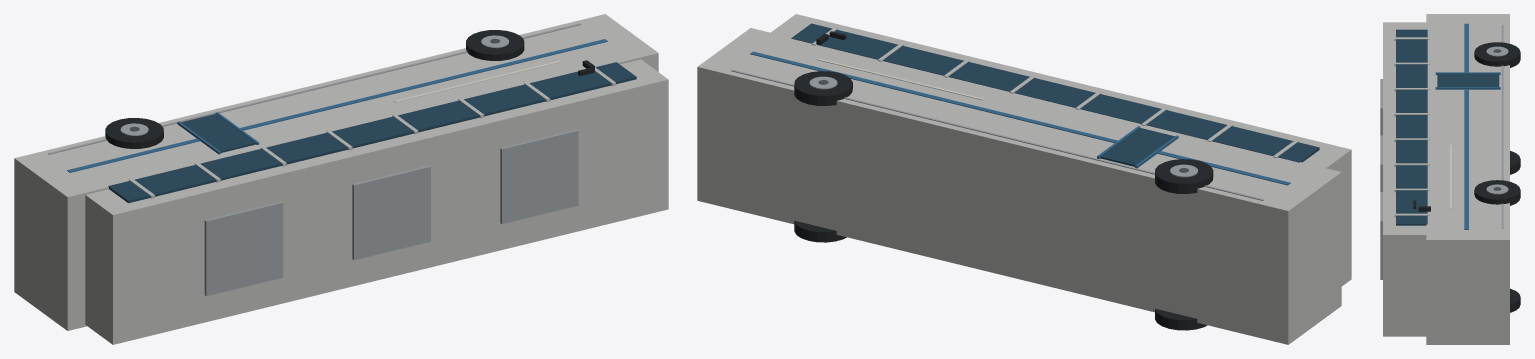
File: RM_Bus_09.glb
3 views of the same model, side by side, from view 1: azimuth 30°, elevation 25°; view 2: azimuth 150°, elevation 25°; view 3: azimuth 270°, elevation 25° (orthographic). The views are drawn at different scales.
Visible parts, largest first — view 1: part_001, part_000, part_002, part_037, part_038, part_039, part_013, part_040, part_024, part_030, part_014; view 2: part_000, part_002, part_001, part_013, part_040, part_030, part_024, part_014, part_027, part_021; view 3: part_000, part_001, part_002, part_013, part_040, part_024, part_030, part_014, part_039, part_027, part_021, part_042 (+6 smaller).
Boxes of the visible parts, x1=… form: part_001: x1=85, y1=59, x2=668, y2=344; part_000: x1=14, y1=14, x2=658, y2=330; part_002: x1=108, y1=62, x2=636, y2=203; part_037: x1=204, y1=201, x2=283, y2=296; part_038: x1=352, y1=165, x2=430, y2=260; part_039: x1=500, y1=129, x2=578, y2=224; part_013: x1=67, y1=39, x2=607, y2=172; part_040: x1=181, y1=114, x2=255, y2=152; part_024: x1=105, y1=118, x2=163, y2=148; part_030: x1=466, y1=30, x2=524, y2=60; part_014: x1=48, y1=23, x2=580, y2=154; part_000: x1=697, y1=28, x2=1341, y2=344; part_002: x1=791, y1=23, x2=1319, y2=162; part_001: x1=771, y1=14, x2=1351, y2=286; part_013: x1=750, y1=51, x2=1290, y2=185; part_040: x1=1100, y1=128, x2=1174, y2=166; part_030: x1=794, y1=71, x2=852, y2=105; part_024: x1=1155, y1=159, x2=1213, y2=193; part_014: x1=731, y1=69, x2=1263, y2=200; part_027: x1=794, y1=220, x2=846, y2=242; part_021: x1=1155, y1=308, x2=1206, y2=330; part_000: x1=1426, y1=14, x2=1509, y2=344; part_001: x1=1383, y1=22, x2=1426, y2=336; part_002: x1=1396, y1=29, x2=1427, y2=225; part_013: x1=1464, y1=23, x2=1468, y2=229; part_040: x1=1437, y1=73, x2=1499, y2=86; part_024: x1=1474, y1=42, x2=1520, y2=67; part_030: x1=1474, y1=180, x2=1520, y2=205; part_014: x1=1501, y1=24, x2=1503, y2=228; part_039: x1=1380, y1=192, x2=1382, y2=279; part_027: x1=1510, y1=288, x2=1520, y2=312; part_021: x1=1510, y1=151, x2=1520, y2=174; part_042: x1=1435, y1=87, x2=1500, y2=89.
Size of the model in its own units: 12.06 by 2.93 by 3.16.
